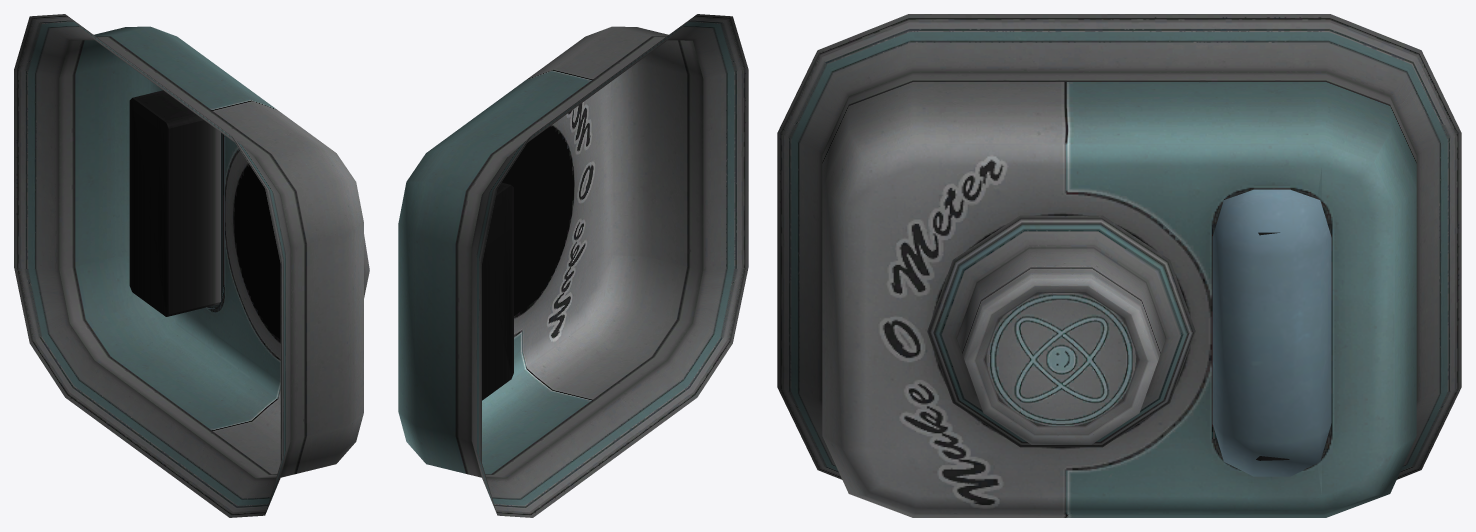
The model's file is nt_2020_wall_meter_01_LOD1.obj.
3 views of the same model, side by side, from view 1: azimuth 30°, elevation 25°; view 2: azimuth 150°, elevation 25°; view 3: azimuth 270°, elevation 25° (orthographic). The views are drawn at different scales.
Visible parts, largest first — view 1: mtl_nt_2020_wall_meter_01; view 2: mtl_nt_2020_wall_meter_01; view 3: mtl_nt_2020_wall_meter_01, glass_clear_model.
Part boxes in pixels (box(x1,y1,x2,y2)): mtl_nt_2020_wall_meter_01: box(14, 14, 369, 517); mtl_nt_2020_wall_meter_01: box(398, 14, 748, 517); mtl_nt_2020_wall_meter_01: box(777, 14, 1461, 517); glass_clear_model: box(1212, 189, 1331, 476).
Bounding box in the file's own units: 15.78 × 35.66 × 44.91.
